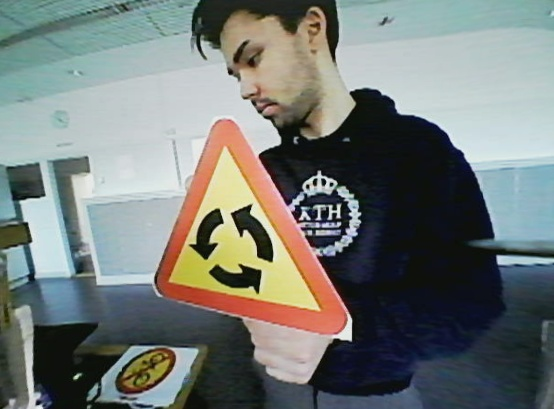roundabout_warning: (150, 113, 356, 351)
